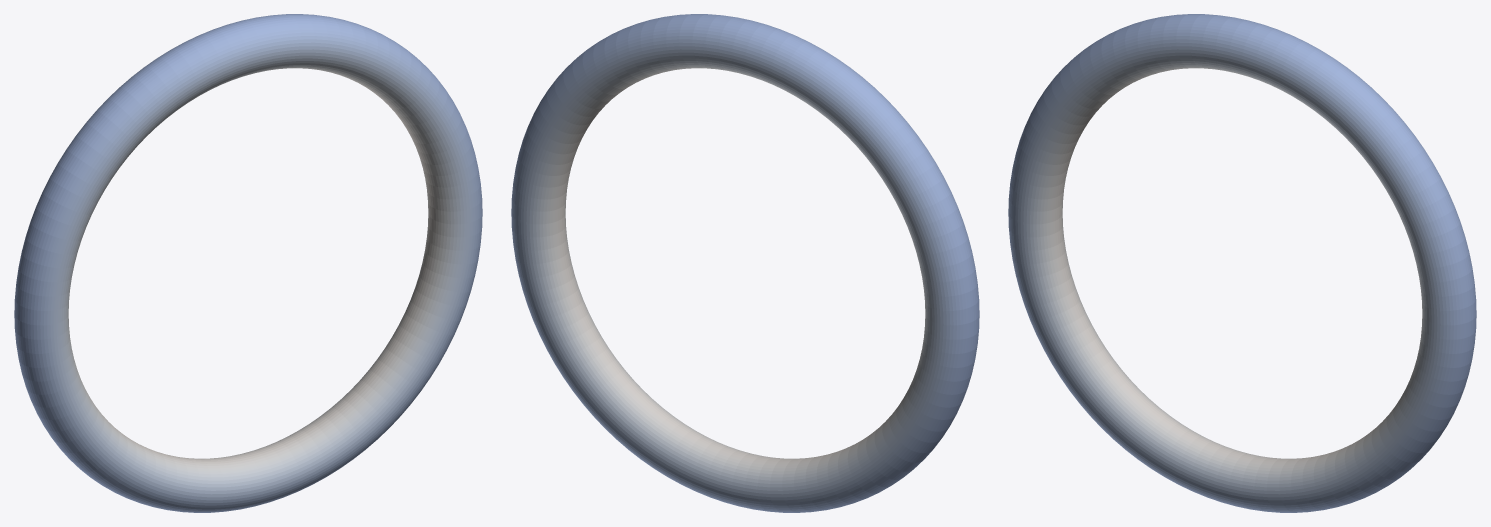
3 views of the same model, side by side, from view 1: azimuth 30°, elevation 25°; view 2: azimuth 150°, elevation 25°; view 3: azimuth 330°, elevation 25° (orthographic).
Parts seen in each view (by area): view 1: world; view 2: world; view 3: world.
Boxes of the visible parts, x1,y1,x2,y2 form: world: (14,14,482,512); world: (511,14,979,512); world: (1008,14,1476,512).
Size of the model in its own units: 32.67 by 32.67 by 3.33.
